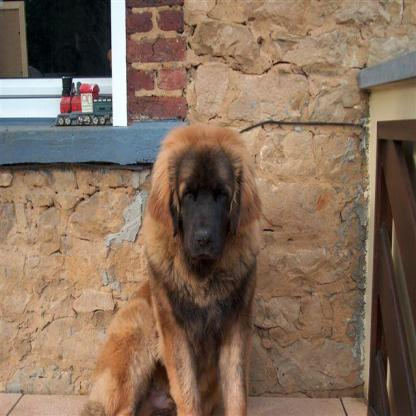Leonberg: (80, 119, 263, 414)
